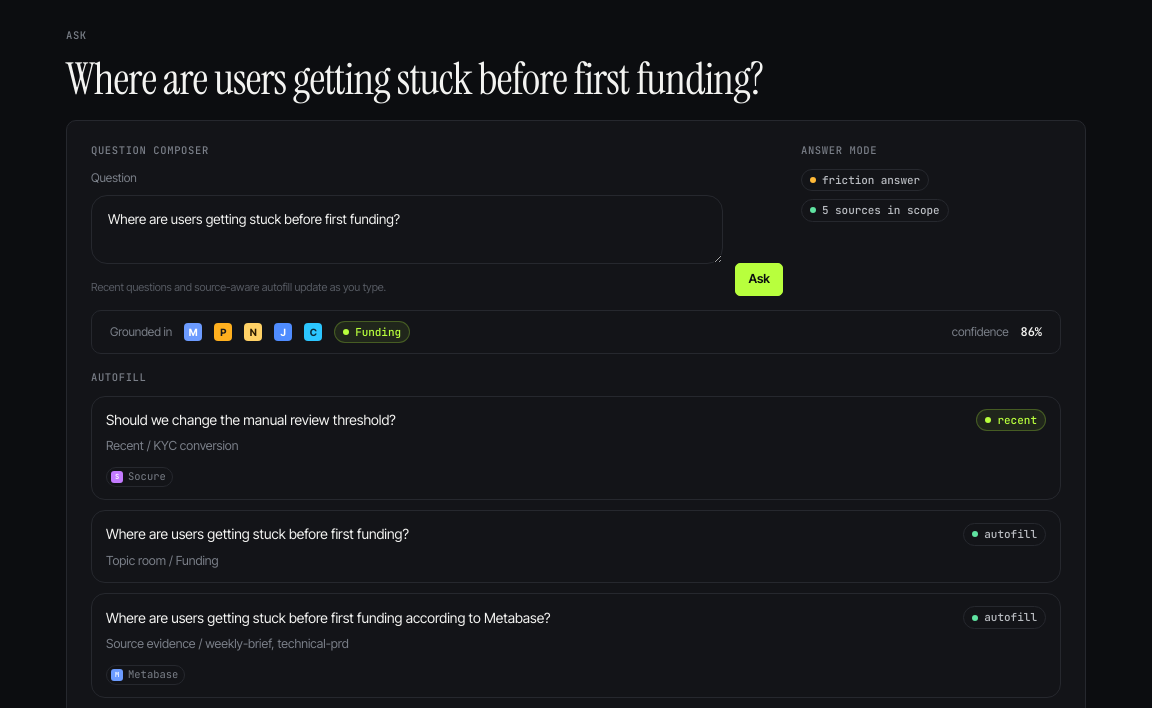
Scenario: AskPage › offers recent and source-aware autofill suggestions inside the ask composer
The width and height of the screenshot is (1152, 708).
Expected: the text "Recent questions and source-aware autofill update as you type." is shown, [91,280,386,294]
Expected: the button "Should we change the manual review threshold?" is shown, [91,396,1061,500]
Replace the text in the text box labelled "Question" with "fund" at [407, 229], box [91,195,724,264]
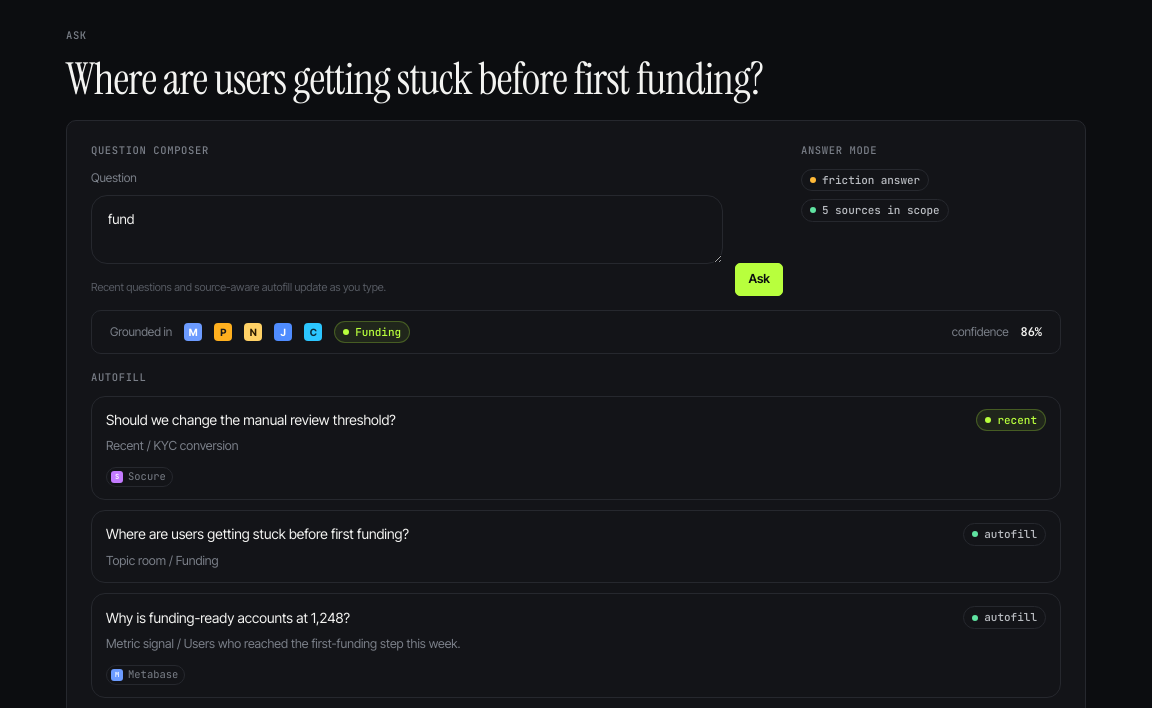
Click the button "Where are users getting stuck before first funding?".
click(257, 534)  # box [91,510,1061,584]
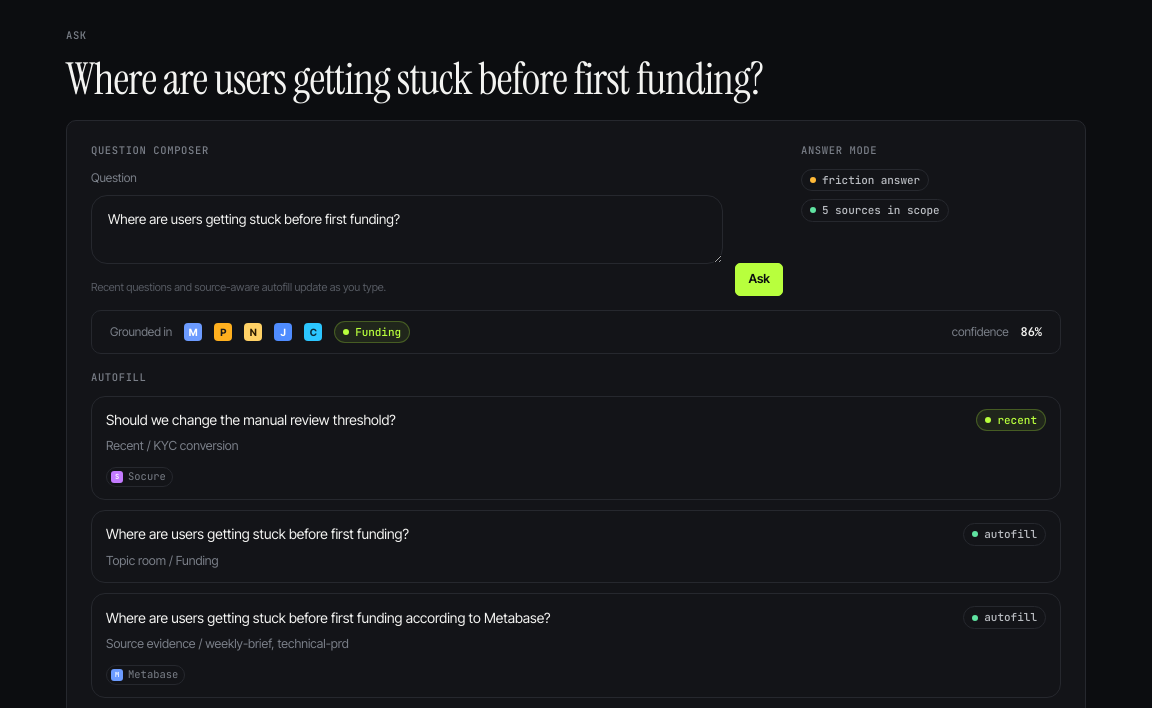
Result: the text box labelled "Question" holds "Where are users getting stuck before first funding?" at [91,195,724,264]
